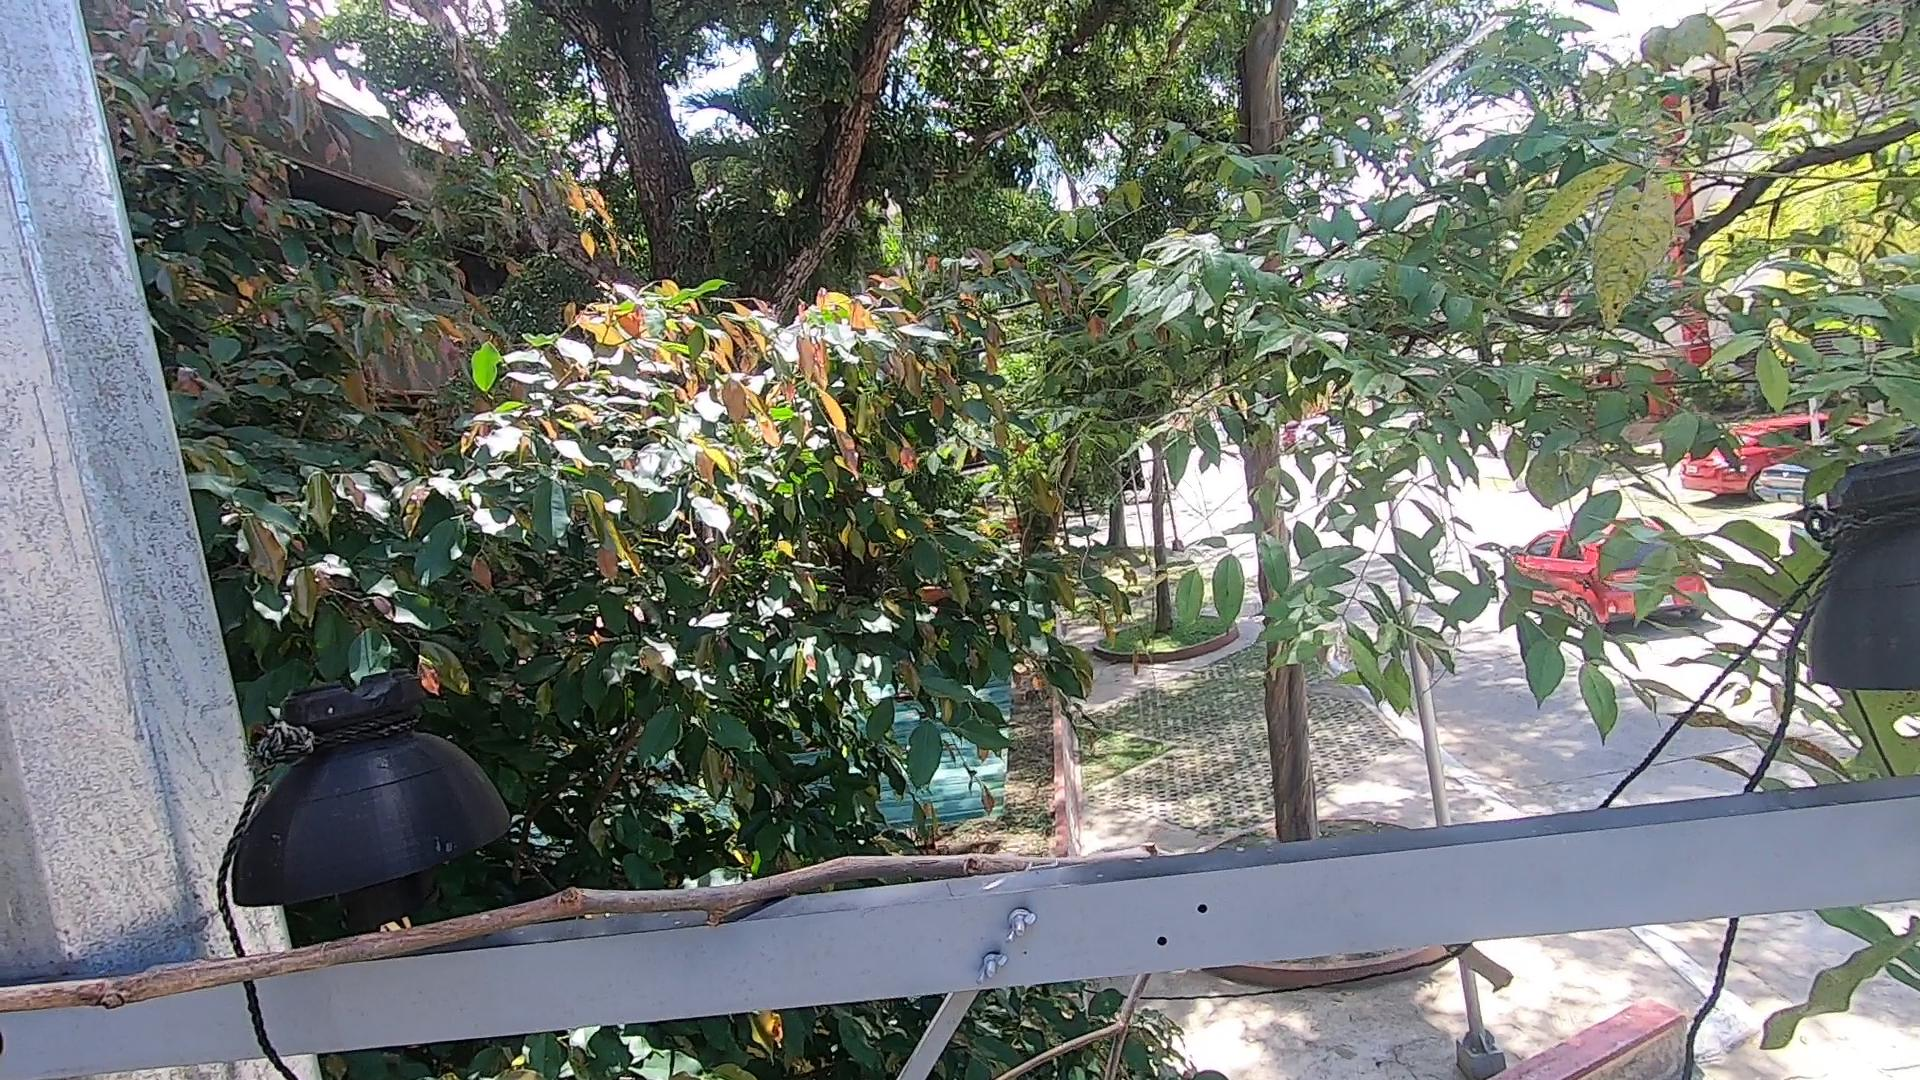tree branch: (1, 851, 1056, 1025), (992, 971, 1159, 1080), (1428, 942, 1520, 1000)
